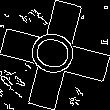O_E: (25, 28, 85, 82)
